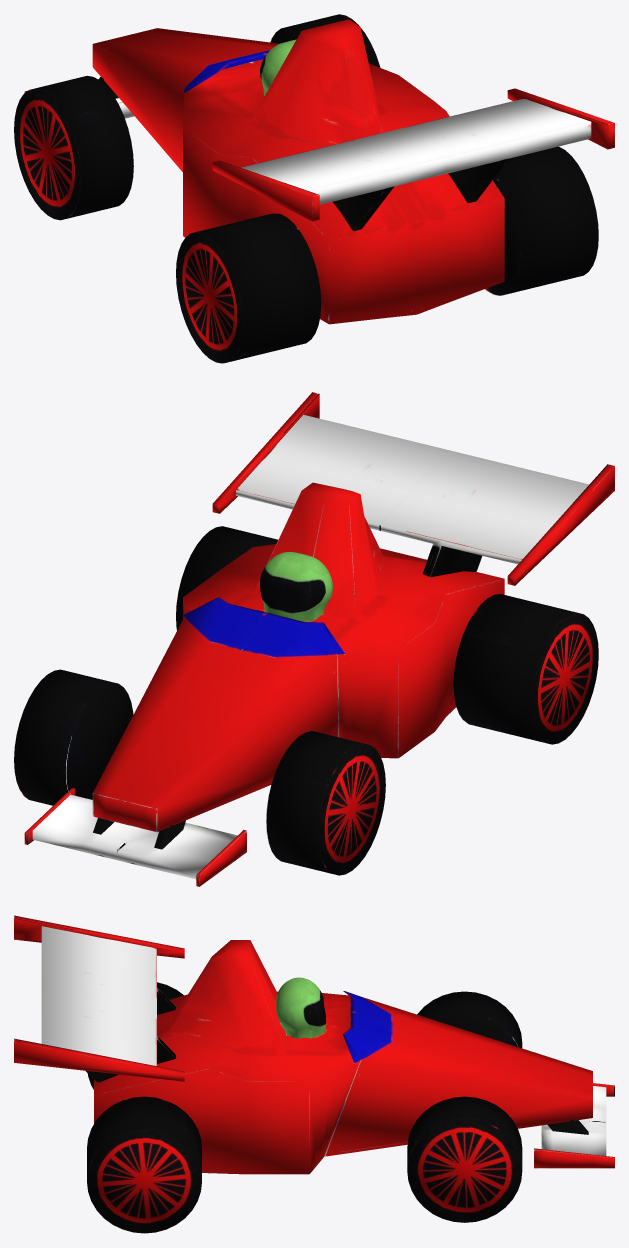
File: MyCar.fbx
3 views of the same model, one above another, from view 1: azimuth 30°, elevation 25°; view 2: azimuth 150°, elevation 25°; view 3: azimuth 270°, elevation 25° (orthographic). The views are drawn at different scales.
Visible parts, largest first — view 1: Sphere; view 2: Sphere; view 3: Sphere.
Boxes of the visible parts, x1,y1,x2,y2 form: Sphere: (14,14,614,363); Sphere: (14,392,614,886); Sphere: (14,915,614,1233).
Size of the model in its own units: 6.09 by 4.01 by 10.43.
